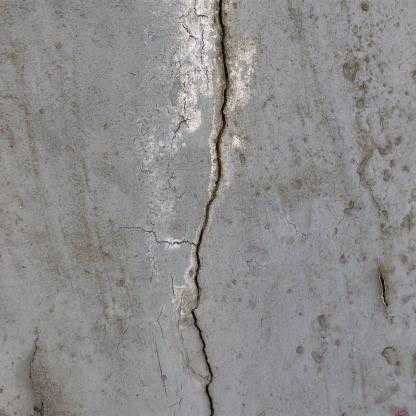crack: (191, 0, 228, 415)
